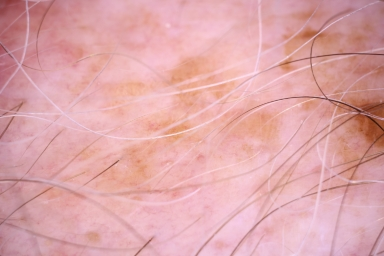nevus: (125, 55, 284, 188), (350, 105, 384, 147)
